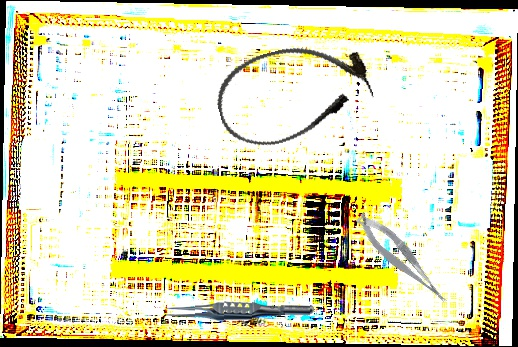Cannula: (207, 29, 380, 157)
Micro Scissor: (352, 204, 451, 315)
Tissue Forceps: (161, 298, 315, 324)
